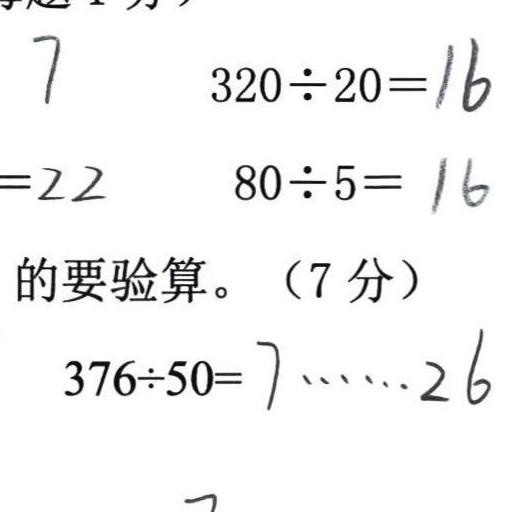ans: (251, 328, 491, 411), (430, 32, 491, 113), (424, 149, 488, 213), (33, 157, 105, 204), (26, 27, 62, 104)
